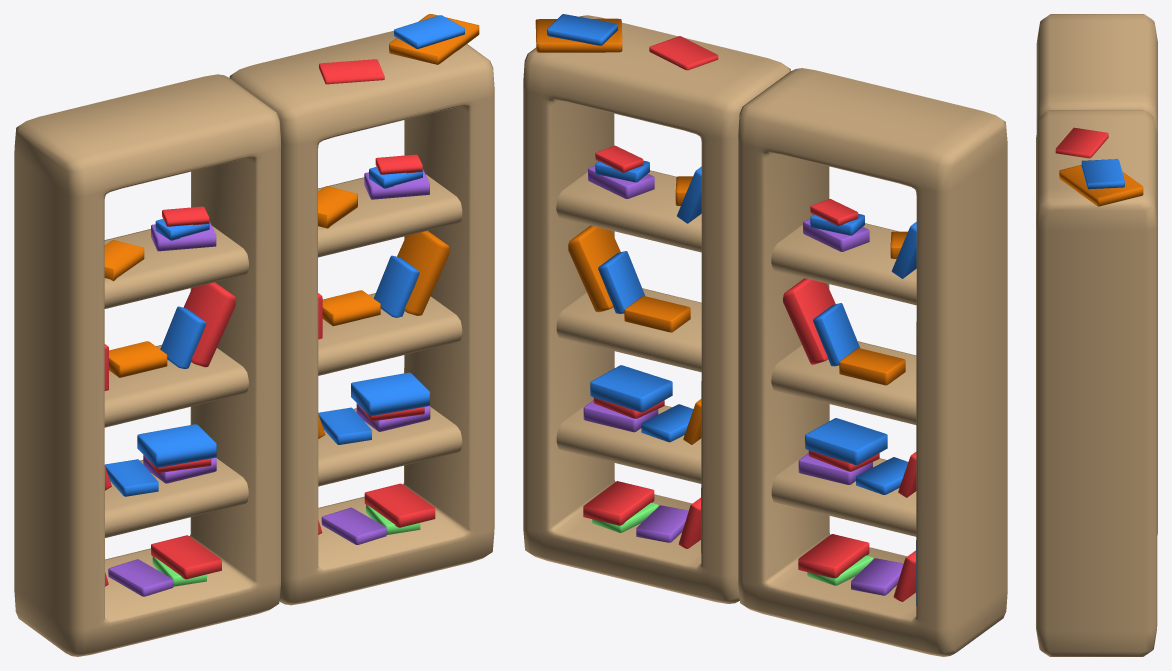
3 renders of one model, left to right at view 1: azimuth 30°, elevation 25°; view 2: azimuth 150°, elevation 25°; view 3: azimuth 270°, elevation 25°, orthographic. The views are drawn at different scales.
Parts seen in each view (by area): view 1: Double_Shelf; view 2: Double_Shelf; view 3: Double_Shelf.
Part boxes in pixels (x1=…): Double_Shelf: x1=14, y1=14, x2=494, y2=656; Double_Shelf: x1=523, y1=14, x2=1007, y2=656; Double_Shelf: x1=1036, y1=14, x2=1157, y2=656.
Size of the model in its own units: 1.84 by 2.06 by 0.4793.
1 material, 1 textured.
